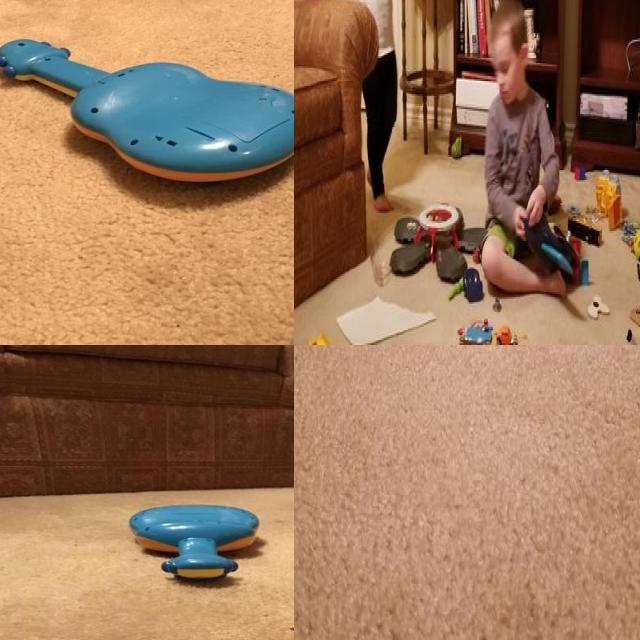toy: (0, 37, 294, 185), (130, 503, 261, 584), (597, 170, 626, 231), (457, 310, 495, 345), (572, 212, 601, 250), (493, 317, 520, 345), (464, 260, 482, 300), (627, 227, 640, 272), (574, 161, 589, 191), (451, 134, 464, 168), (306, 331, 336, 345), (449, 274, 464, 300)
